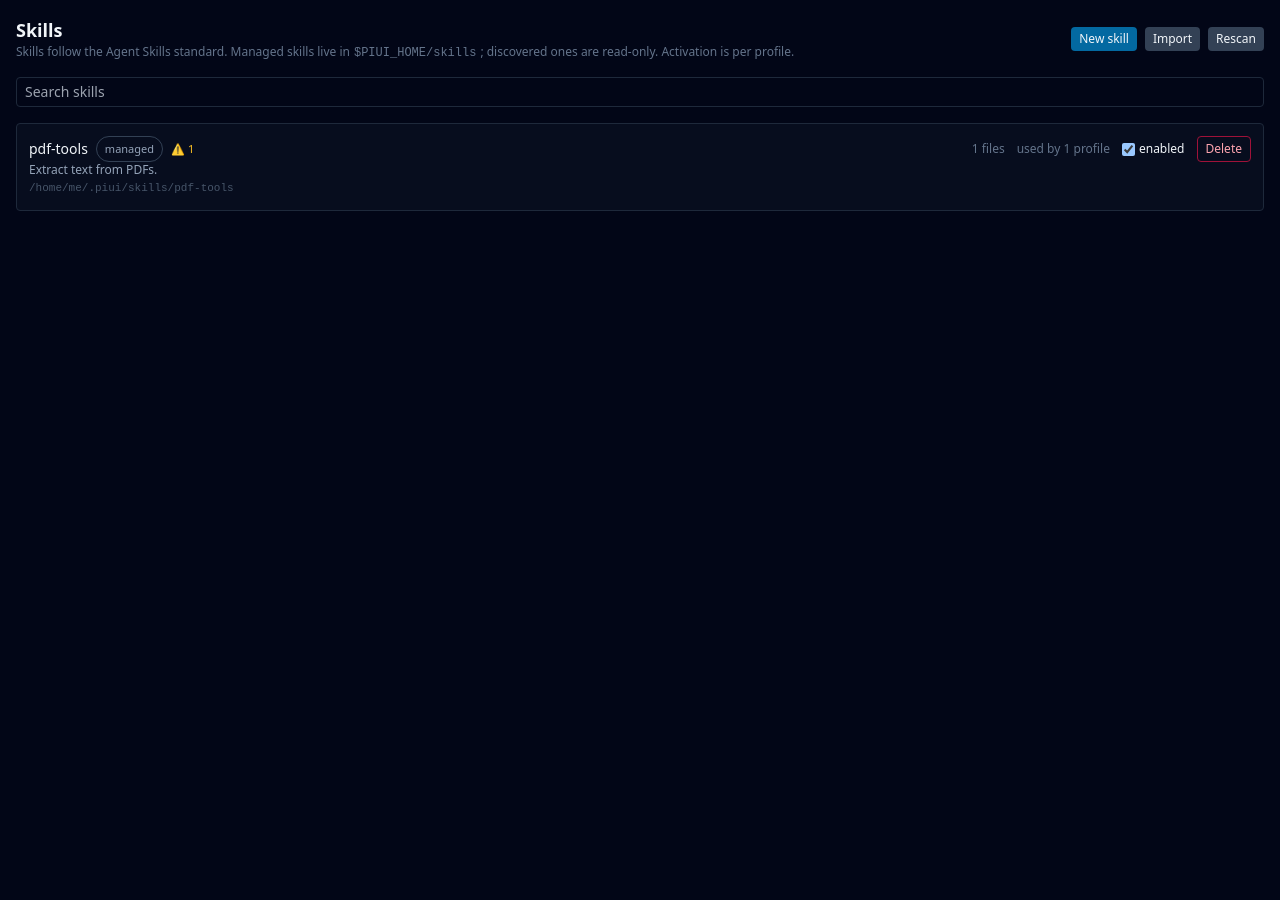
it: SkillsPage › [05-skills-and-tools#A.5] names the affected profiles in the in-app delete dialog
This screenshot has width=1280, height=900.
Click the button with test id "skill-delete-pdf-tools": (1224, 149) [1196,136,1251,162]
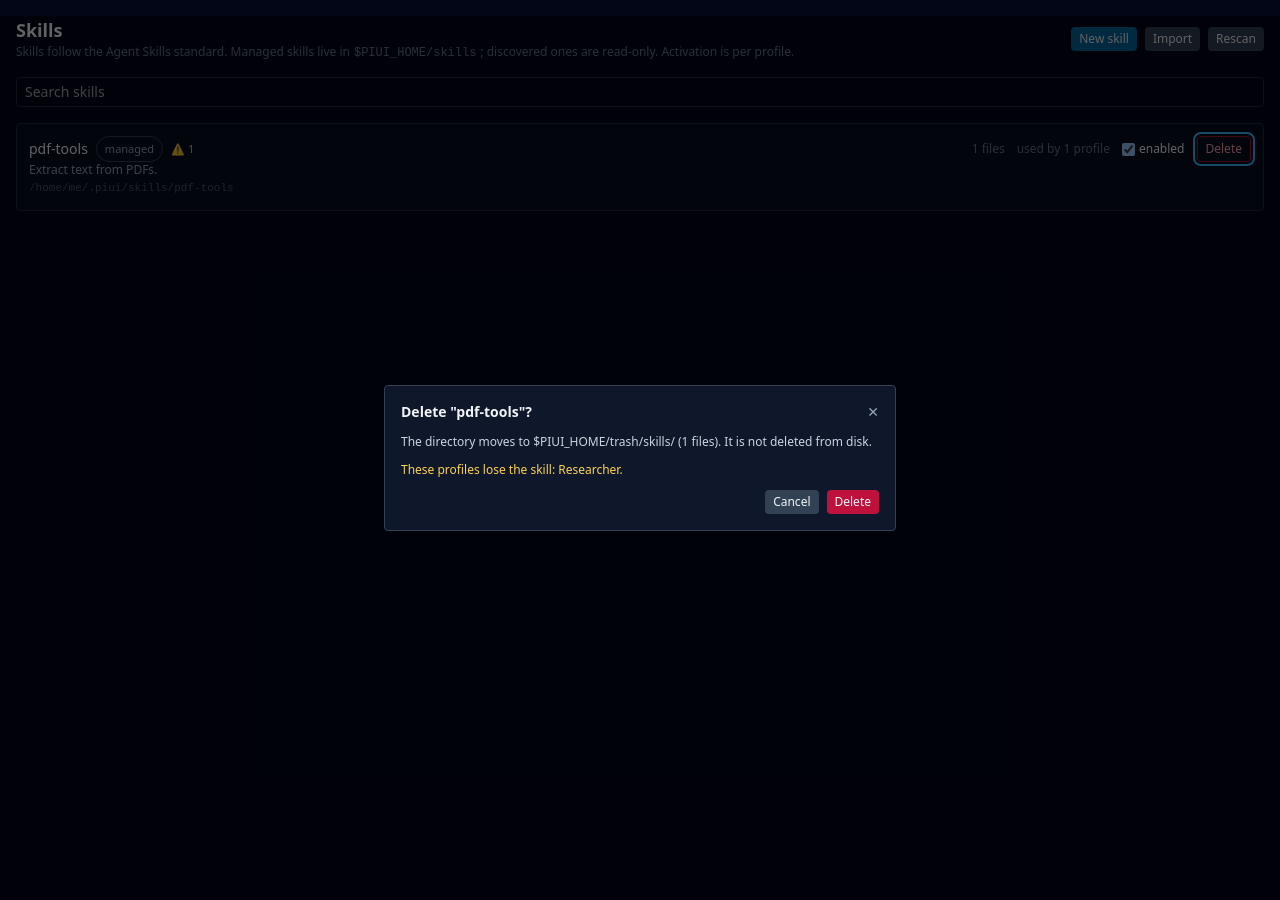
Check: the element with test id "skill-delete-dialog" is shown, box [384,385,896,531]
Check: the text with test id "skill-delete-affected" shows "Researcher", box [558,461,619,478]
Check: the button with test id "skill-delete-confirm" is shown, box [826,490,879,514]
